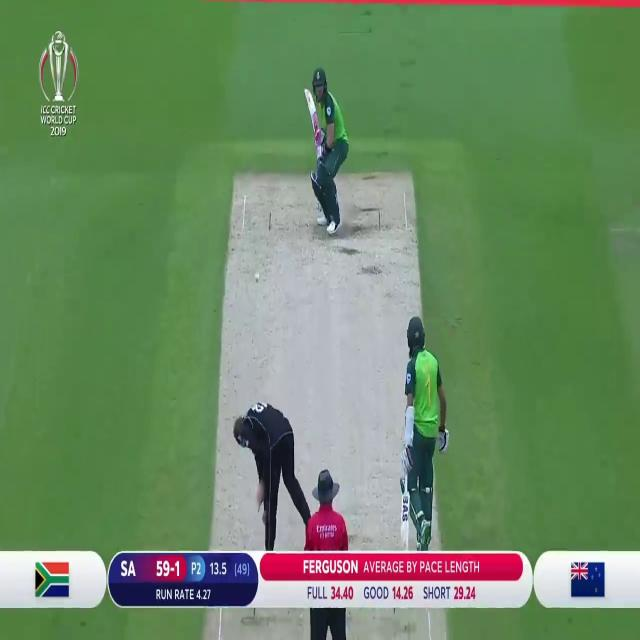ball: (251, 268, 262, 284)
